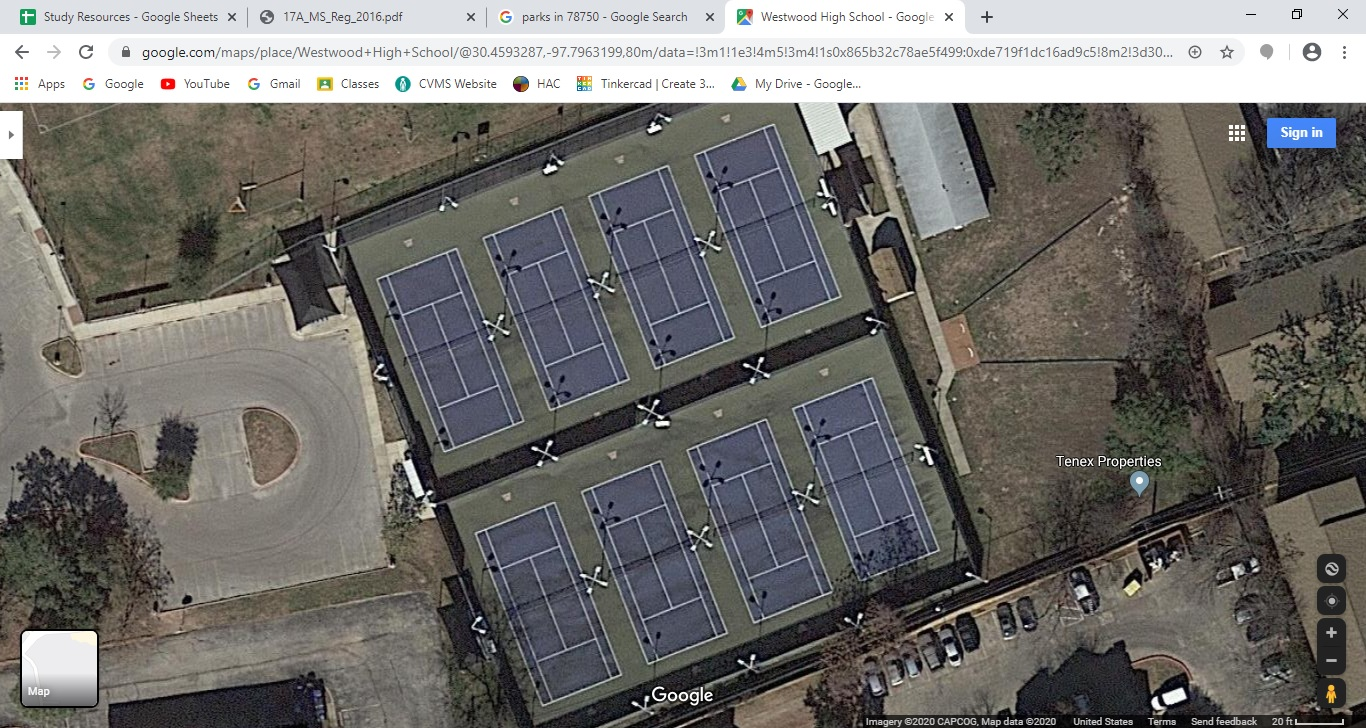tennis: (347, 248, 508, 464), (682, 127, 847, 312), (780, 388, 940, 574), (458, 507, 601, 697)
